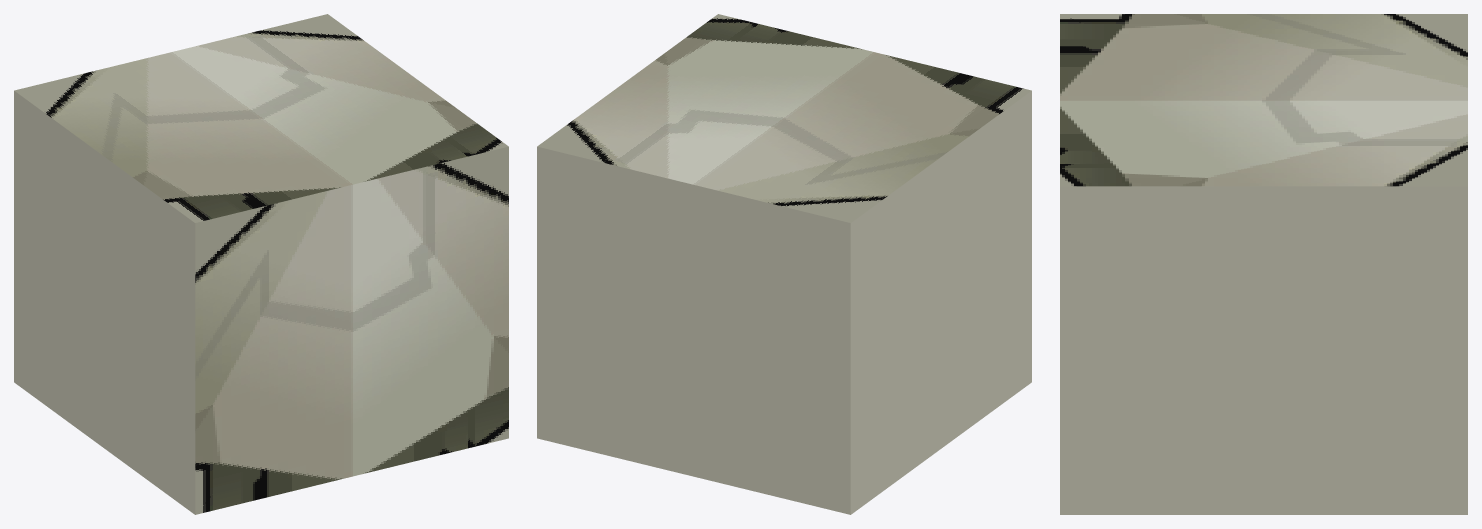
File: Building_MechRelay.glb
The picture shows the model from 3 angles, left to right: view 1: azimuth 30°, elevation 25°; view 2: azimuth 150°, elevation 25°; view 3: azimuth 270°, elevation 25°; orthographic projection. The views are drawn at different scales.
Visible parts, largest first — view 1: MechRelay; view 2: MechRelay; view 3: MechRelay.
Part boxes in pixels (bbox=[...]): MechRelay: bbox=[14, 14, 508, 514]; MechRelay: bbox=[537, 14, 1031, 514]; MechRelay: bbox=[1060, 14, 1467, 514].
Bounding box in the file's own units: 1.8 × 1.6 × 1.8.
Materials: 1 (1 with a texture image).
